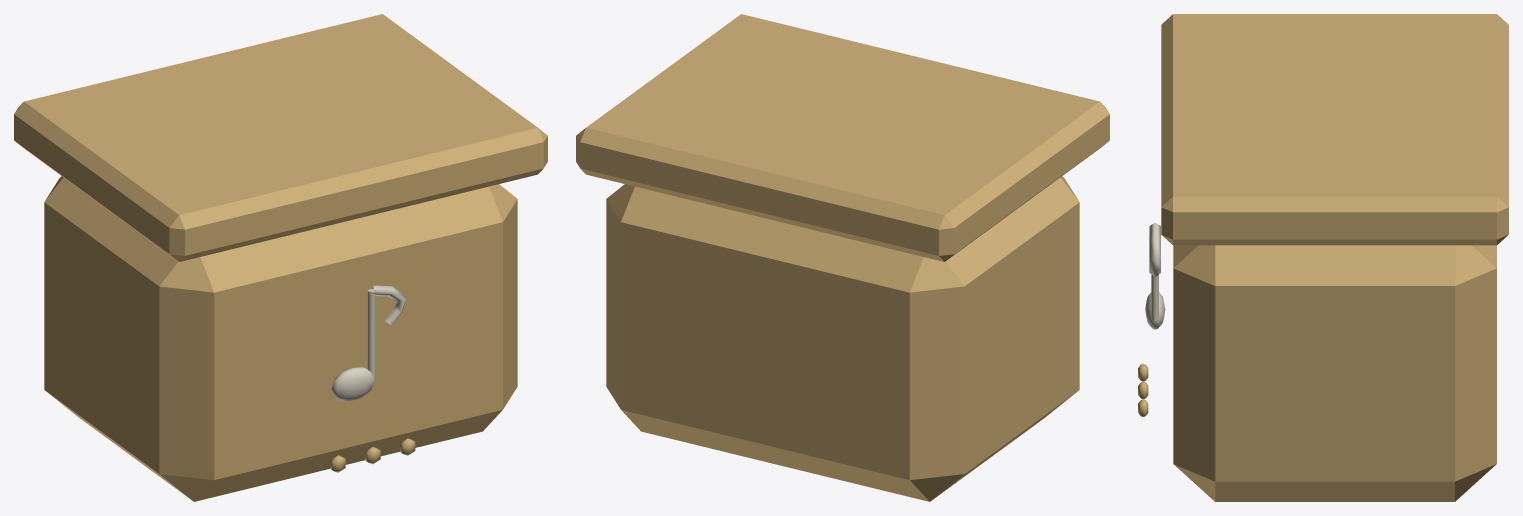
3 views of the same model, side by side, from view 1: azimuth 30°, elevation 25°; view 2: azimuth 150°, elevation 25°; view 3: azimuth 270°, elevation 25° (orthographic). The views are drawn at different scales.
Parts seen in each view (by area): view 1: g_s26; view 2: g_s26; view 3: g_s26.
Part boxes in pixels (<box>): g_s26: <box>14,14,547,501</box>; g_s26: <box>576,14,1109,501</box>; g_s26: <box>1138,14,1508,501</box>.
Size of the model in its own units: 0.38 by 0.2975 by 0.3093.
